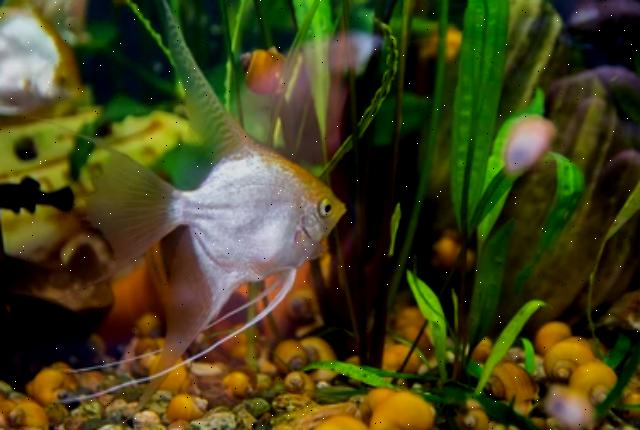Mulut: (324, 184, 364, 238)
Sirip Anal: (144, 230, 236, 416)
Sirip Ekor: (23, 98, 179, 311)
Sirip Perut: (48, 261, 312, 417)
Sirip Punggung: (131, 0, 273, 204)
